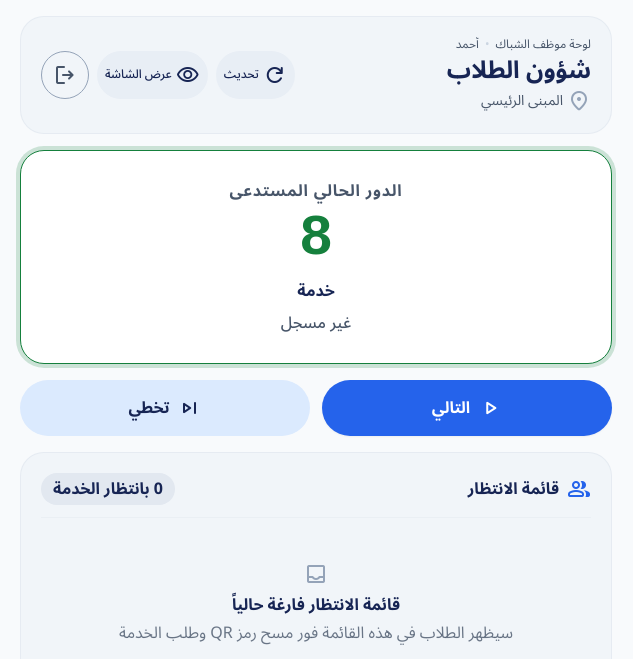
Scenario: StaffPanelPage Component › shows an Arabic message and refreshes the queue on a 409 STALE_TICKET response
Check: the text "8" is shown, box [299,207,333,271]
Step 1. Click the button "التالي" → click(467, 408), box [322,380,612,436]
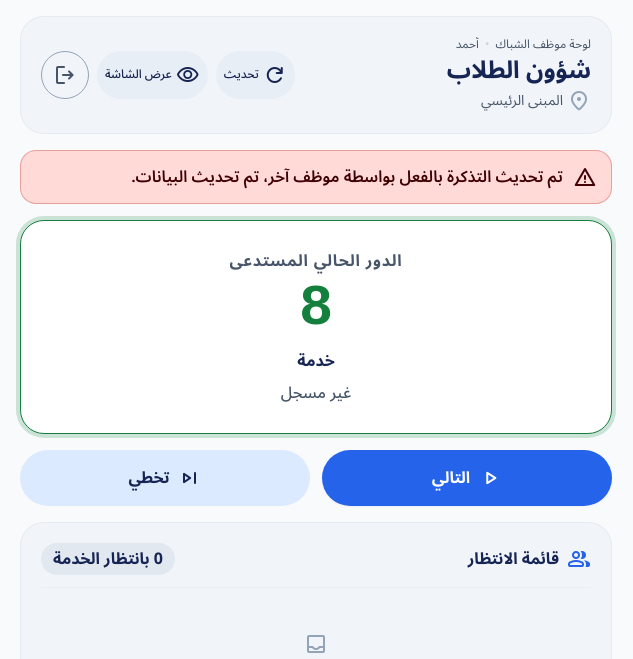
Check: the text "تم تحديث التذكرة بالفعل بواسطة موظف آخر، تم تحديث البيانات." is shown, box [131,165,563,189]
